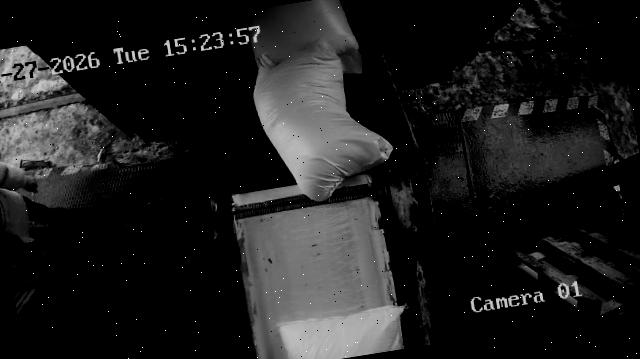bag: (246, 27, 399, 208), (245, 0, 364, 89), (278, 302, 412, 359)
